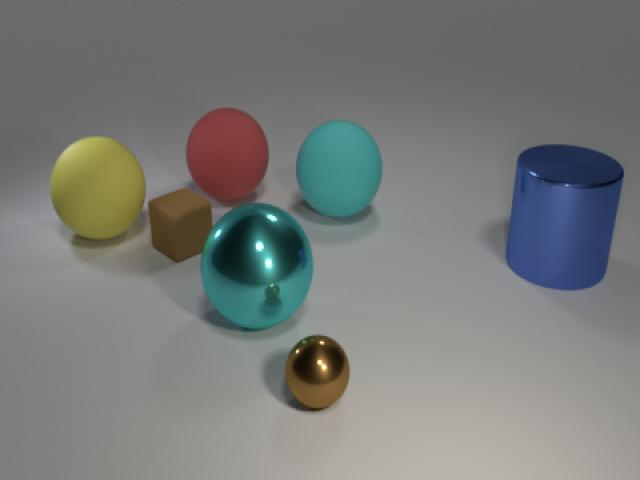cylinder: (492, 132, 630, 294)
round ball: (195, 196, 314, 334), (47, 127, 148, 241), (291, 112, 388, 222), (183, 102, 269, 204), (280, 326, 355, 416)
